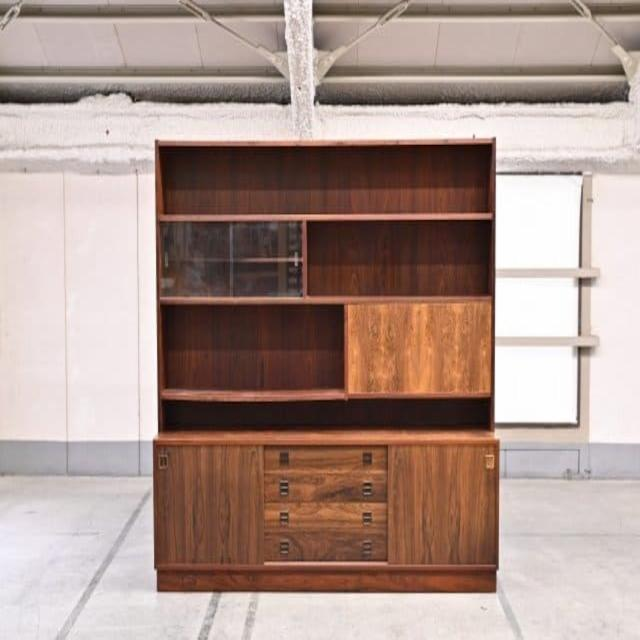vintage shelf: (149, 128, 500, 594)
